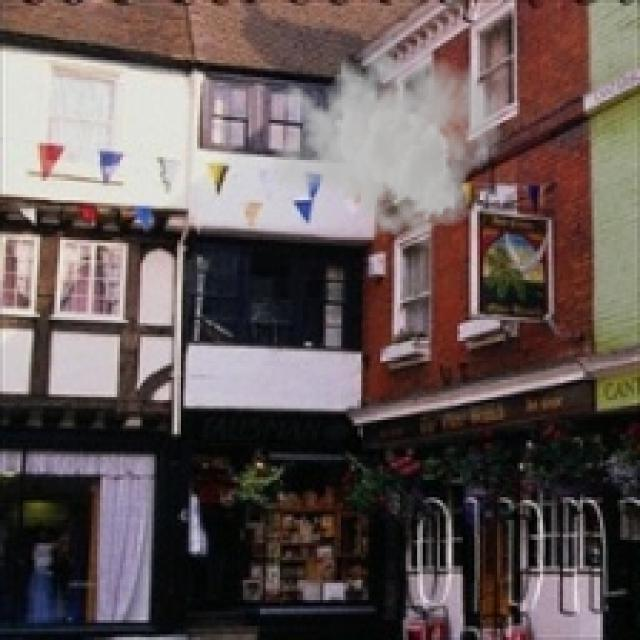Smoke: (268, 23, 503, 246)
